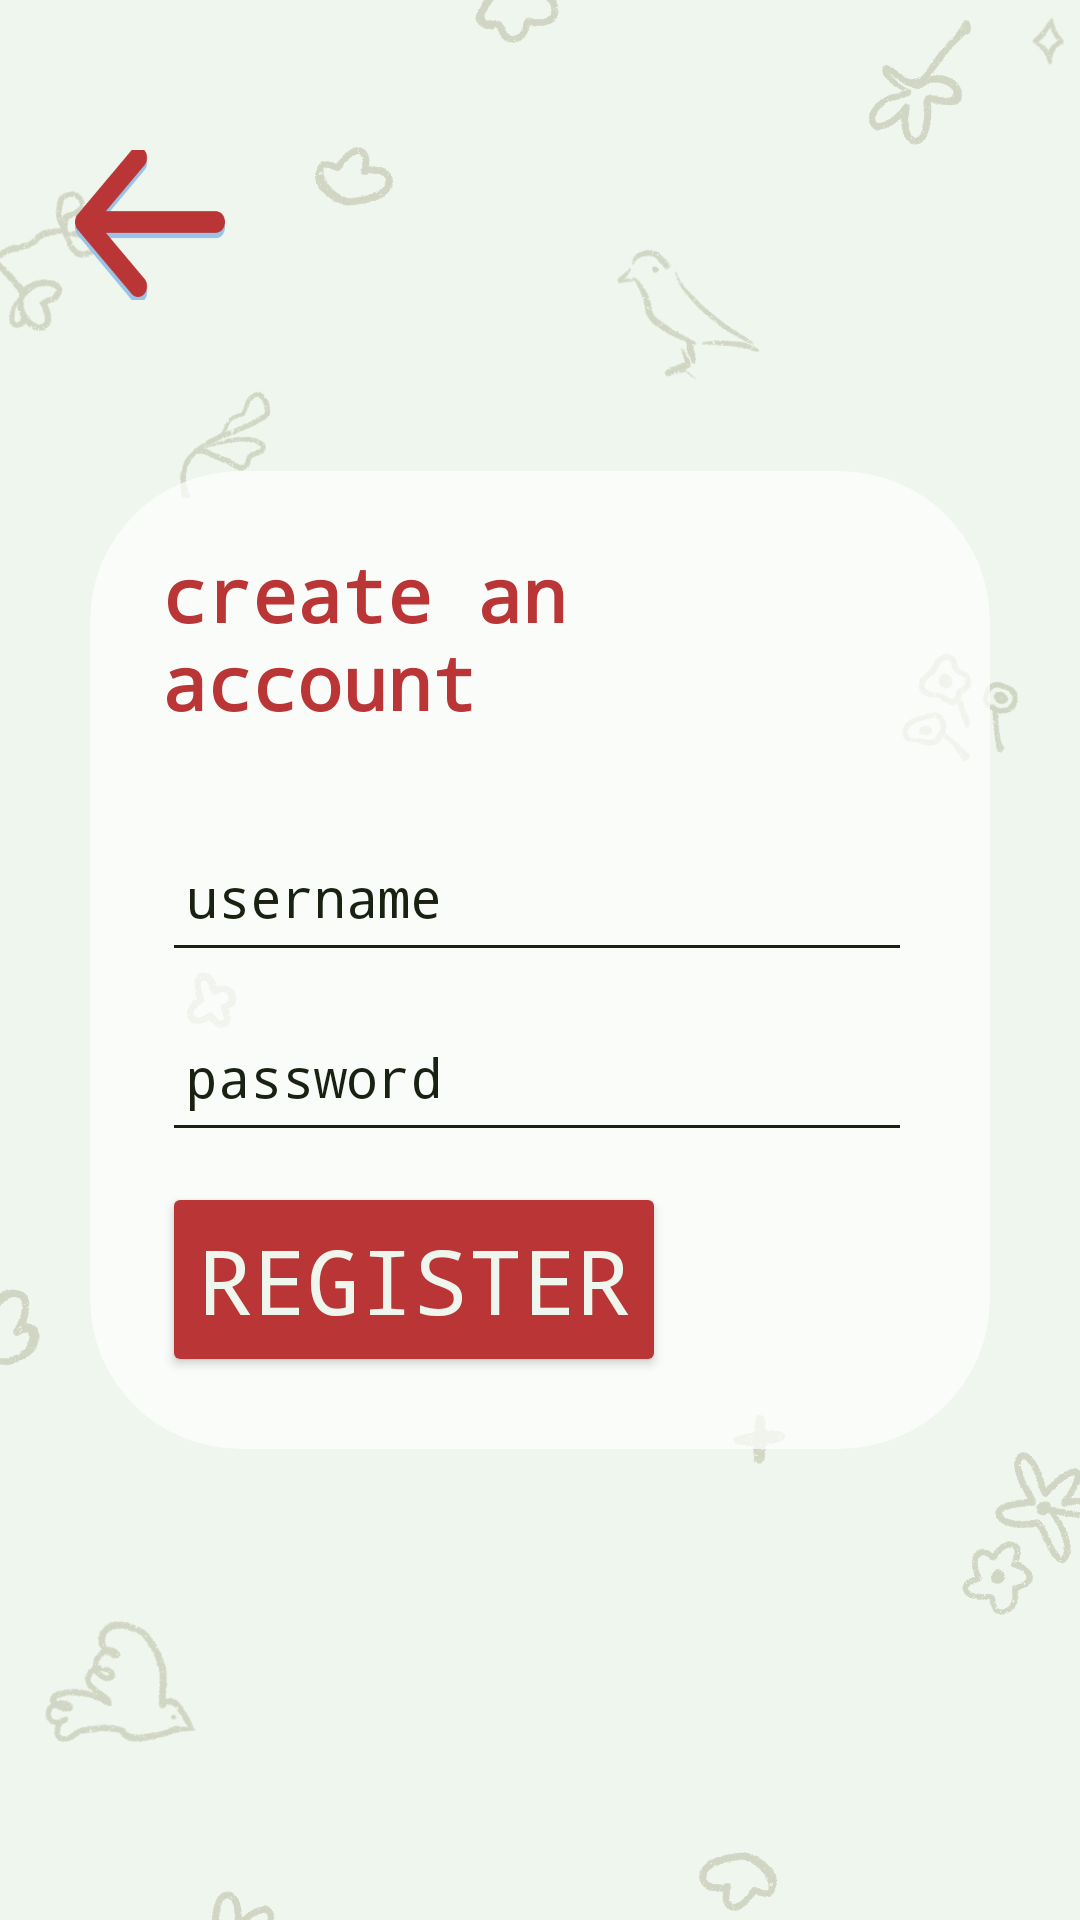

Named icons in this screenshot (1080 x 1920) and their bounding boxes, BBox(x1, y1, x2, y2):
back: BBox(75, 150, 225, 300)
